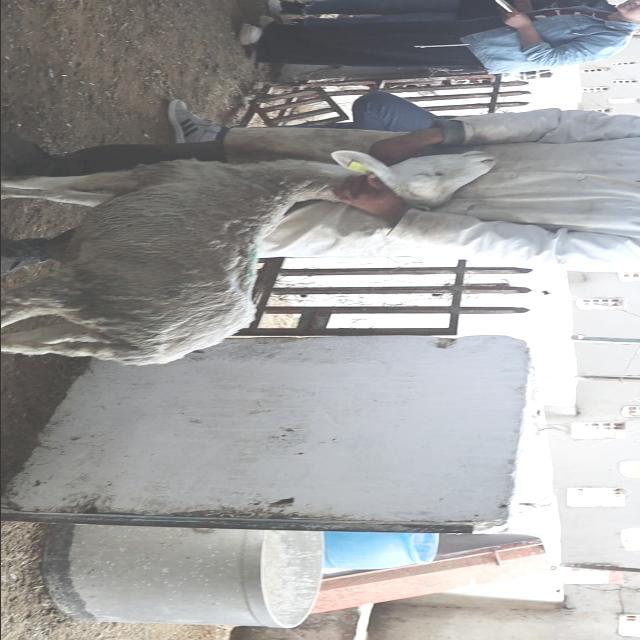Score_1: (1, 150, 494, 365)
